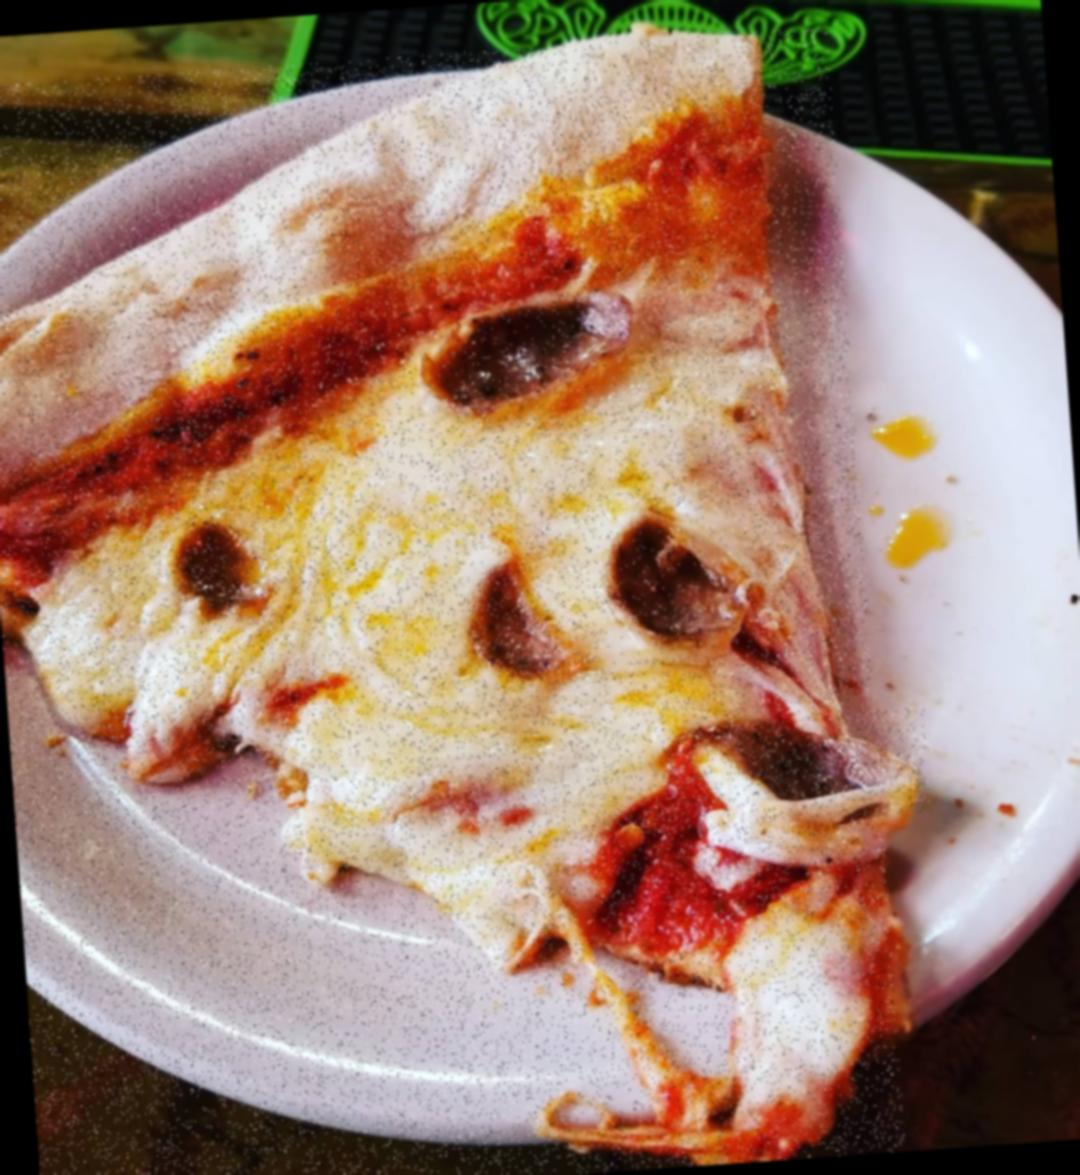Pepperoni: (407, 282, 645, 423), (678, 705, 932, 828), (599, 502, 753, 661), (450, 559, 564, 684), (169, 515, 278, 620)
Pizza: (0, 26, 905, 1175)
